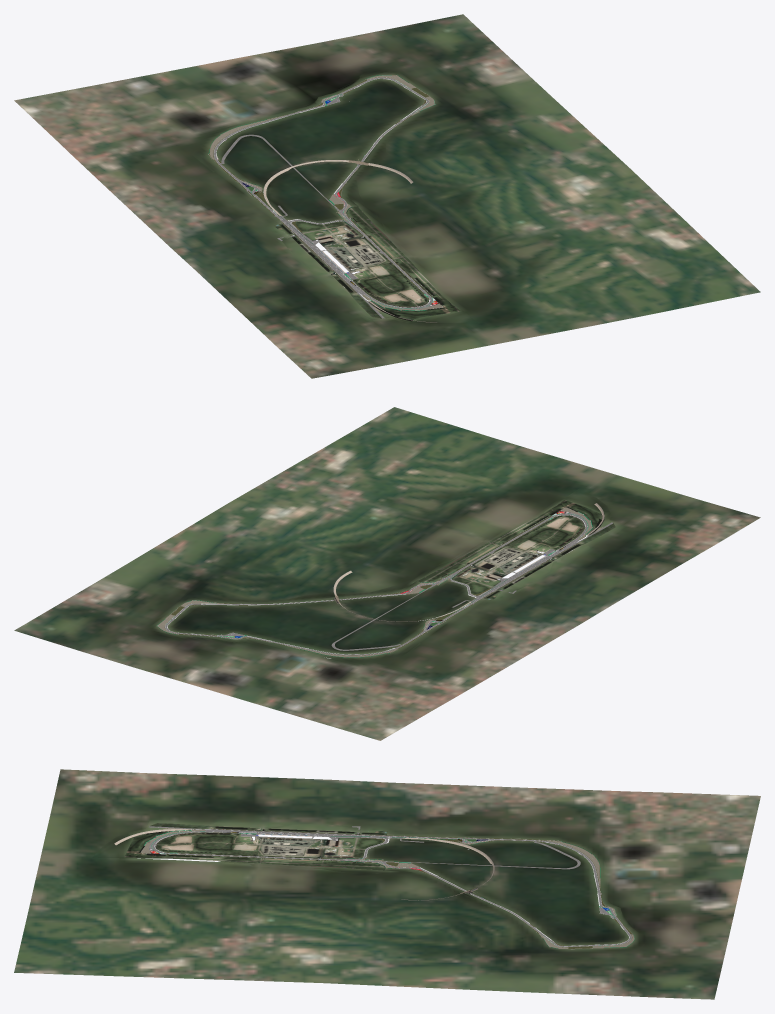
File: surfaces.glb
3 views of the same model, one above another, from view 1: azimuth 30°, elevation 25°; view 2: azimuth 150°, elevation 25°; view 3: azimuth 270°, elevation 25° (orthographic). The views are drawn at different scales.
Parts seen in each view (by area): view 1: Terrain, monza_2022.064, Road.004, Grass, Sand, monza_2022.062; view 2: Terrain, monza_2022.064, Road.004, Grass, Sand; view 3: Terrain, monza_2022.064, Road.004, Grass, Sand, monza_2022.062, Turf.
Part boxes in pixels (box(x1,y1,x2,y2)): Terrain: box(14, 14, 760, 378); monza_2022.064: box(272, 206, 461, 321); Road.004: box(221, 77, 432, 318); Grass: box(208, 75, 443, 309); Sand: box(210, 75, 442, 310); monza_2022.062: box(263, 160, 436, 322); Terrain: box(14, 407, 760, 740); monza_2022.064: box(417, 499, 615, 600); Road.004: box(165, 512, 612, 654); Grass: box(159, 514, 593, 655); Sand: box(157, 507, 592, 657); Terrain: box(14, 769, 760, 999); monza_2022.064: box(124, 823, 387, 870); Road.004: box(149, 826, 632, 946); Grass: box(140, 829, 634, 949); Sand: box(141, 829, 634, 948); monza_2022.062: box(114, 829, 494, 900); Turf: box(144, 830, 634, 948).
Size of the model in its own units: 2497 by 27.17 by 3397.
Materials: 28 (28 with a texture image).
